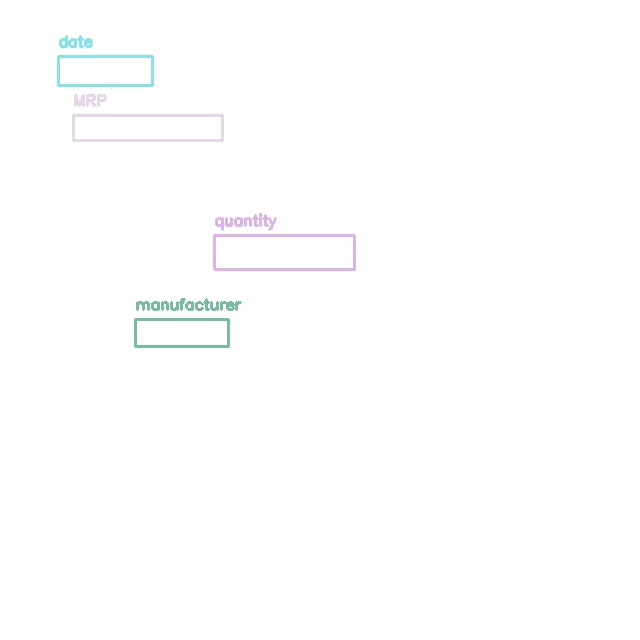MRP: (73, 115, 222, 140)
date: (58, 56, 152, 85)
manufacturer: (135, 319, 228, 346)
quantity: (214, 235, 354, 269)
